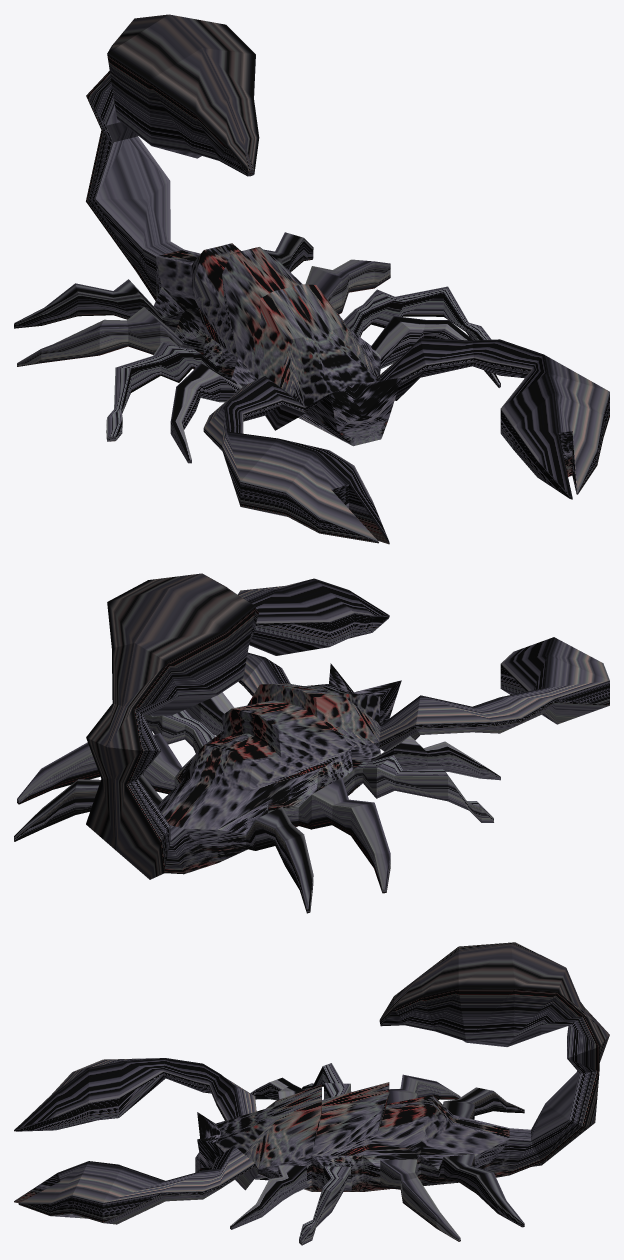
File: scorpio_scorpio.fbx
The picture shows the model from 3 angles, top to bottom: view 1: azimuth 30°, elevation 25°; view 2: azimuth 150°, elevation 25°; view 3: azimuth 270°, elevation 25°; orthographic projection. The views are drawn at different scales.
Visible parts, largest first — view 1: scorpio; view 2: scorpio; view 3: scorpio.
Boxes of the visible parts, x1,y1,x2,y2 form: scorpio: [14, 14, 609, 544]; scorpio: [14, 573, 609, 913]; scorpio: [14, 942, 609, 1245].
Size of the model in its own units: 687 by 481 by 1149.
